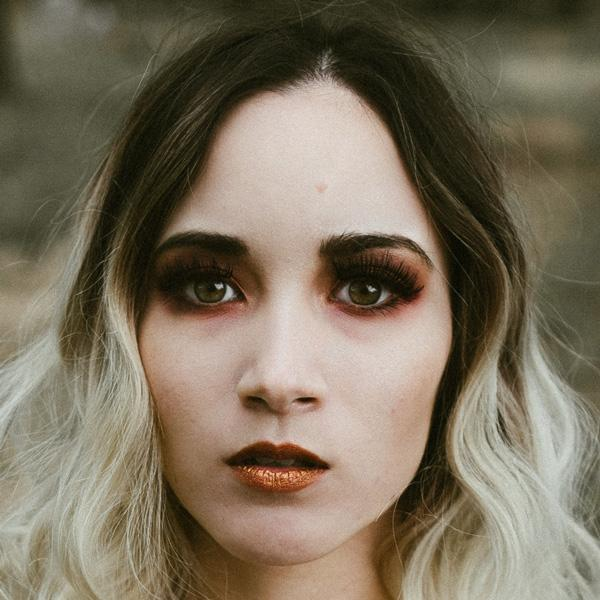Eyes: (318, 254, 421, 325), (159, 255, 252, 322)
